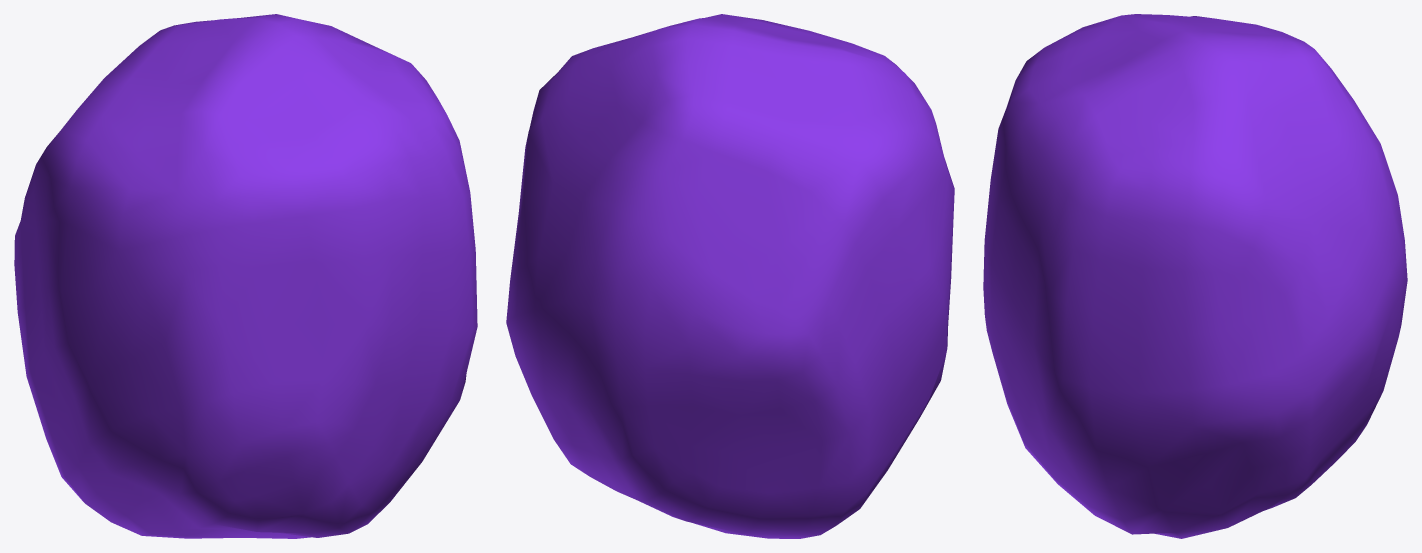
File: stone_compressed.glb
The picture shows the model from 3 angles, left to right: view 1: azimuth 30°, elevation 25°; view 2: azimuth 150°, elevation 25°; view 3: azimuth 270°, elevation 25°; orthographic projection. The views are drawn at different scales.
Parts seen in each view (by area): view 1: Retopo_Cube.002; view 2: Retopo_Cube.002; view 3: Retopo_Cube.002.
Part boxes in pixels (bbox=[...]): Retopo_Cube.002: bbox=[14, 14, 477, 538]; Retopo_Cube.002: bbox=[506, 14, 954, 538]; Retopo_Cube.002: bbox=[983, 14, 1407, 538].
Bounding box in the file's own units: 1.26 × 1.47 × 1.2.
